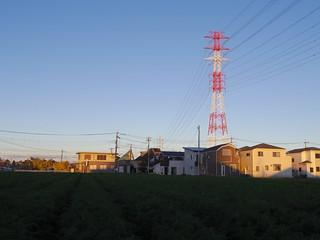power_tower: (199, 26, 235, 150)
